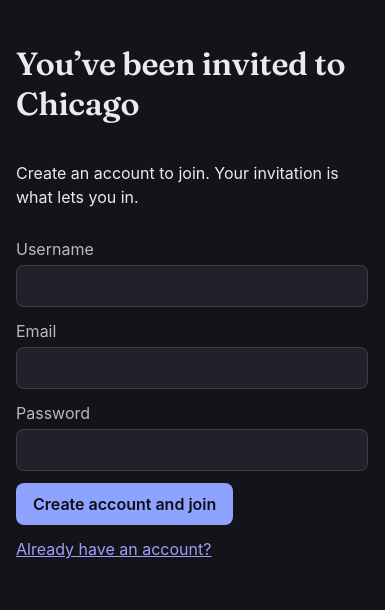
Test case: InvitePage — no account yet › surfaces a taken username without losing the invitation
Expected: the heading "You’ve been invited to Chicago" is shown, [16,44,368,124]
Type "player" into the field labelled "Username" at point(192, 286), box [16,265,368,307]
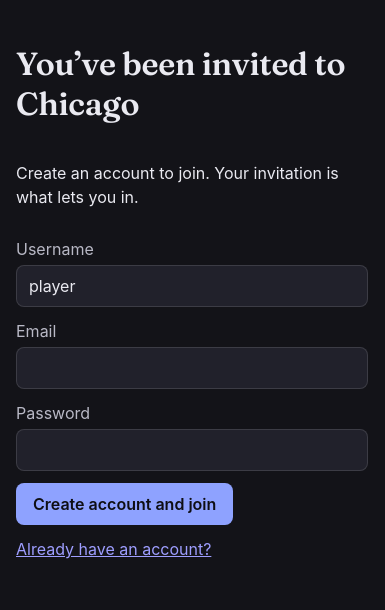
Type "newcomer@example.com" into the field labelled "Email" at point(192, 368), box [16,347,368,389]
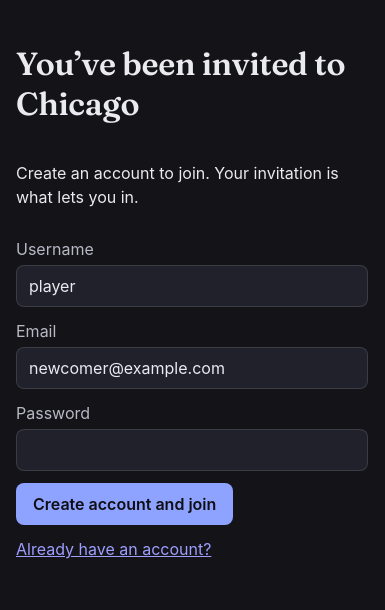
Type "pw-123456" into the password field labelled "Password" at point(192, 450), box [16,429,368,471]
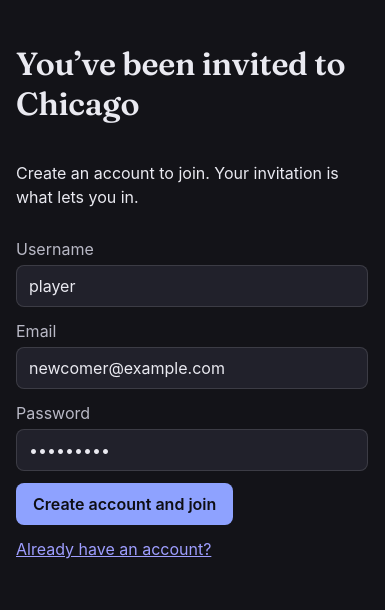
Click the button "Create account and join" at point(125, 504), box [16,483,233,525]
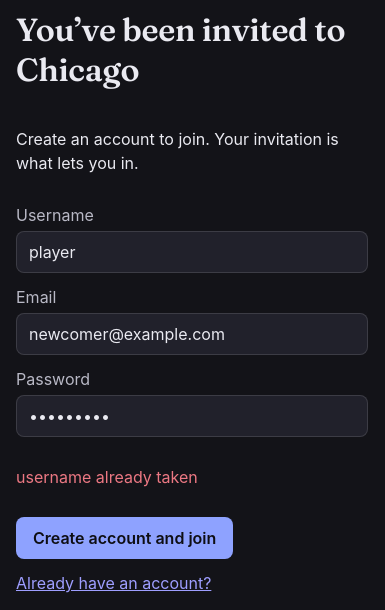
Expected: the button "Create account and join" is shown, [16,517,233,559]
Now the message shows "already taken", box [16,467,198,487]
